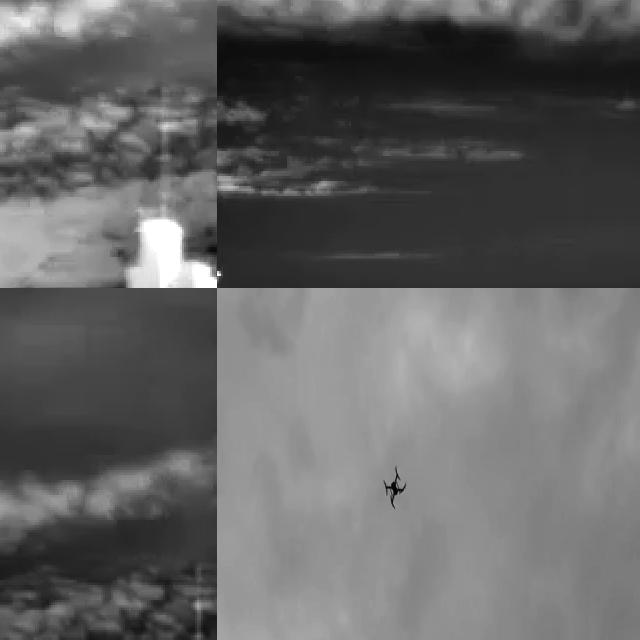drone: (382, 459, 408, 505)
